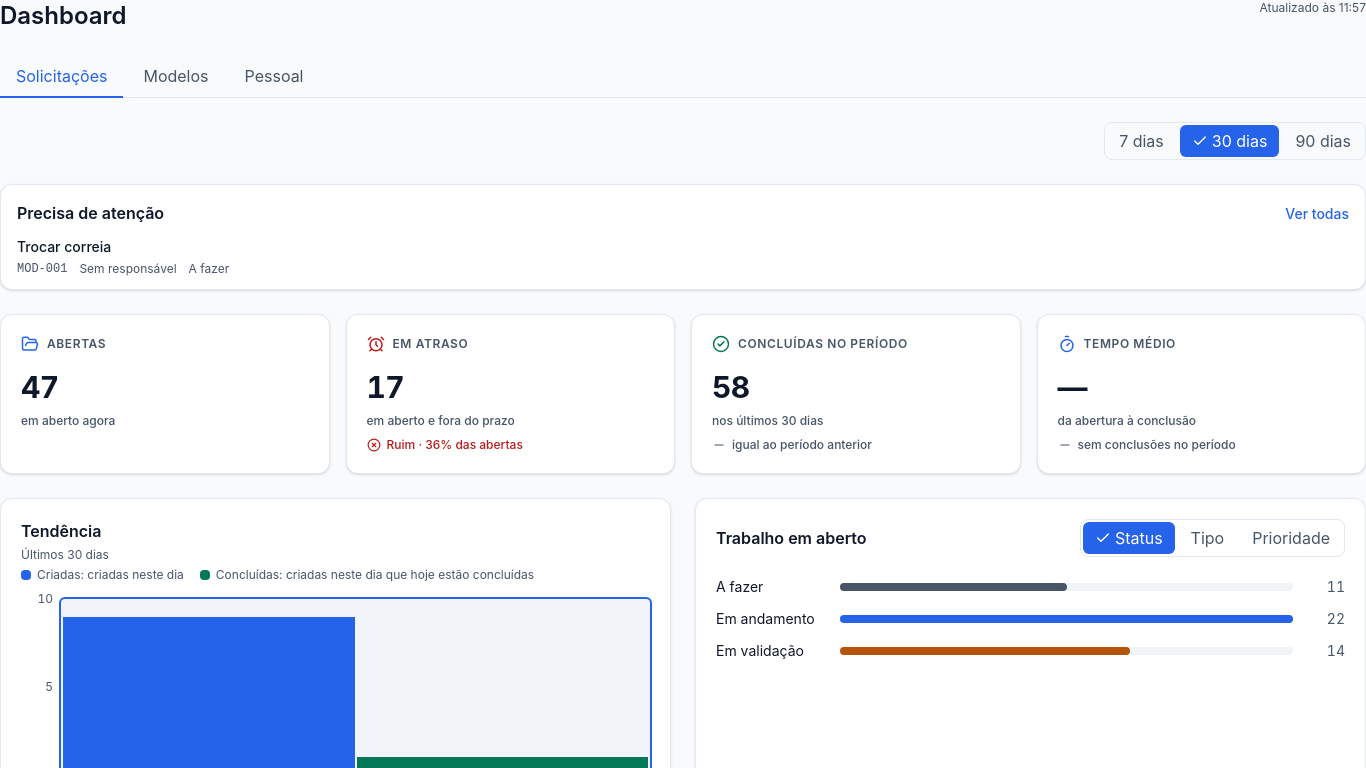
Test case: DashboardPage — abas por perfil › deve esconder a fila de atenção quando o usuário muda para a aba Modelos
Expected: the element "Precisa de atenção" is shown, 0,184 -> 1365,290
Click the button "Modelos".
click(176, 77)  # box 127,56 -> 224,98
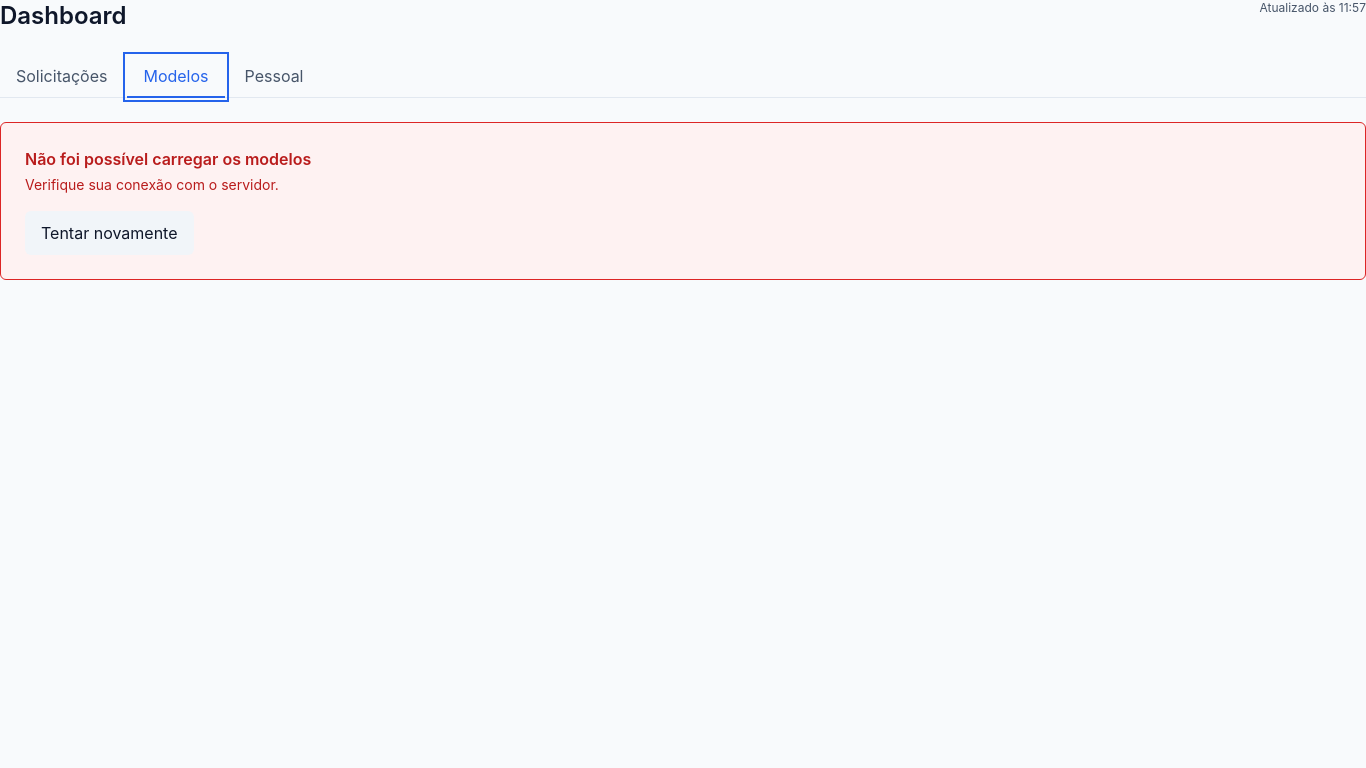
Result: the heading "Precisa de atenção" is gone
